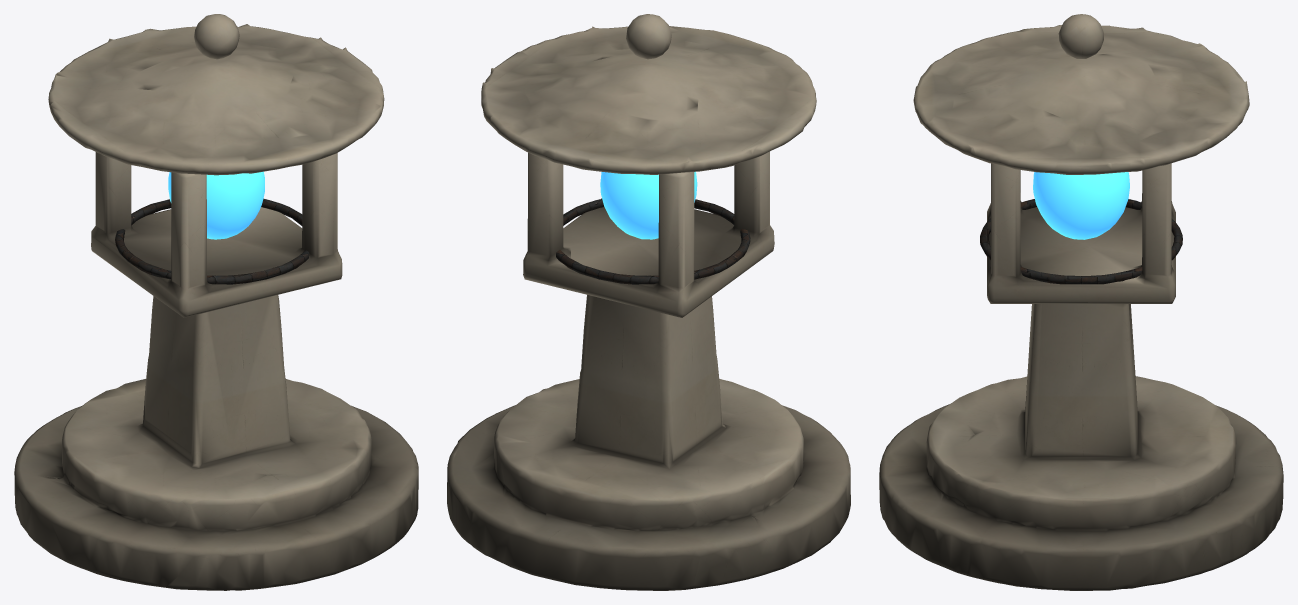
File: lantern.glb
The picture shows the model from 3 angles, left to right: view 1: azimuth 30°, elevation 25°; view 2: azimuth 150°, elevation 25°; view 3: azimuth 270°, elevation 25°; orthographic projection.
Parts seen in each view (by area): view 1: lantern_stone, lantern_accent, lantern_ironstone; view 2: lantern_stone, lantern_accent, lantern_ironstone; view 3: lantern_stone, lantern_accent, lantern_ironstone.
Boxes of the visible parts, left/top/right/bottom form: lantern_stone: left=14, top=14, right=418, bottom=590; lantern_accent: left=168, top=171, right=264, bottom=239; lantern_ironstone: left=115, top=199, right=309, bottom=284; lantern_stone: left=447, top=14, right=850, bottom=590; lantern_accent: left=600, top=171, right=697, bottom=239; lantern_ironstone: left=556, top=199, right=750, bottom=284; lantern_stone: left=879, top=14, right=1283, bottom=590; lantern_accent: left=1033, top=172, right=1129, bottom=239; lantern_ironstone: left=980, top=199, right=1182, bottom=284.
Bounding box in the file's own units: 3 × 4.03 × 3.
3 materials, 2 textured.
